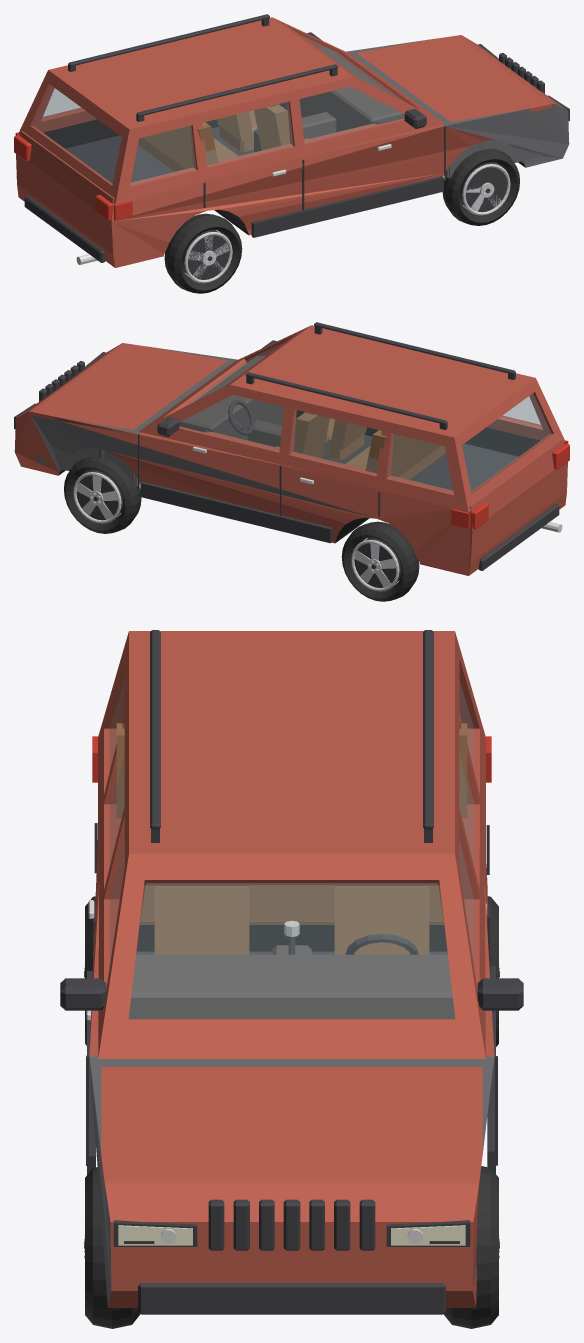
Rendered from sheroki.glb.
3 renders of one model, top to bottom at view 1: azimuth 30°, elevation 25°; view 2: azimuth 150°, elevation 25°; view 3: azimuth 270°, elevation 25°, orthographic. The views are drawn at different scales.
Parts seen in each view (by area): view 1: Body.007, Glass.007, Dark.007, Hood.007, Bay.007, Tire.007, Seat.007, Dash.007, Rim.007, Well.007, Tail.007, Chrome.007; view 2: Body.007, Glass.007, Dark.007, Hood.007, Bay.007, Tire.007, Seat.007, Dash.007, Rim.007, Well.007, Tail.007, Chrome.007; view 3: Body.007, Glass.007, Hood.007, Dark.007, Dash.007, Seat.007, Tire.007, Bay.007, Well.007, Headlight.007, Chrome.007.
Part boxes in pixels (<box>): Body.007: <box>16,17,565,267</box>; Glass.007: <box>32,35,404,185</box>; Dark.007: <box>24,14,569,279</box>; Hood.007: <box>356,35,552,122</box>; Bay.007: <box>346,38,569,178</box>; Tire.007: <box>164,148,519,293</box>; Seat.007: <box>138,104,308,171</box>; Dash.007: <box>254,47,404,152</box>; Rim.007: <box>184,164,510,283</box>; Well.007: <box>43,102,525,234</box>; Tail.007: <box>14,132,132,221</box>; Chrome.007: <box>76,56,558,264</box>; Body.007: <box>14,325,567,575</box>; Glass.007: <box>179,343,551,493</box>; Dark.007: <box>14,322,559,587</box>; Hood.007: <box>31,343,227,433</box>; Bay.007: <box>29,346,374,518</box>; Tire.007: <box>64,456,419,601</box>; Seat.007: <box>275,412,445,479</box>; Dash.007: <box>179,355,329,460</box>; Rim.007: <box>73,472,399,591</box>; Well.007: <box>58,410,540,542</box>; Tail.007: <box>451,440,569,529</box>; Chrome.007: <box>25,364,562,571</box>; Body.007: <box>89,631,494,1307</box>; Glass.007: <box>110,683,473,1018</box>; Hood.007: <box>101,1067,482,1187</box>; Dark.007: <box>60,630,523,1314</box>; Dash.007: <box>128,945,455,1019</box>; Seat.007: <box>116,723,467,954</box>; Tire.007: <box>85,896,498,1328</box>; Bay.007: <box>89,1056,494,1306</box>; Well.007: <box>136,925,447,951</box>; Headlight.007: <box>118,1225,465,1245</box>; Chrome.007: <box>84,900,499,1258</box>.
Size of the model in its own units: 4.99 by 1.84 by 2.11.
